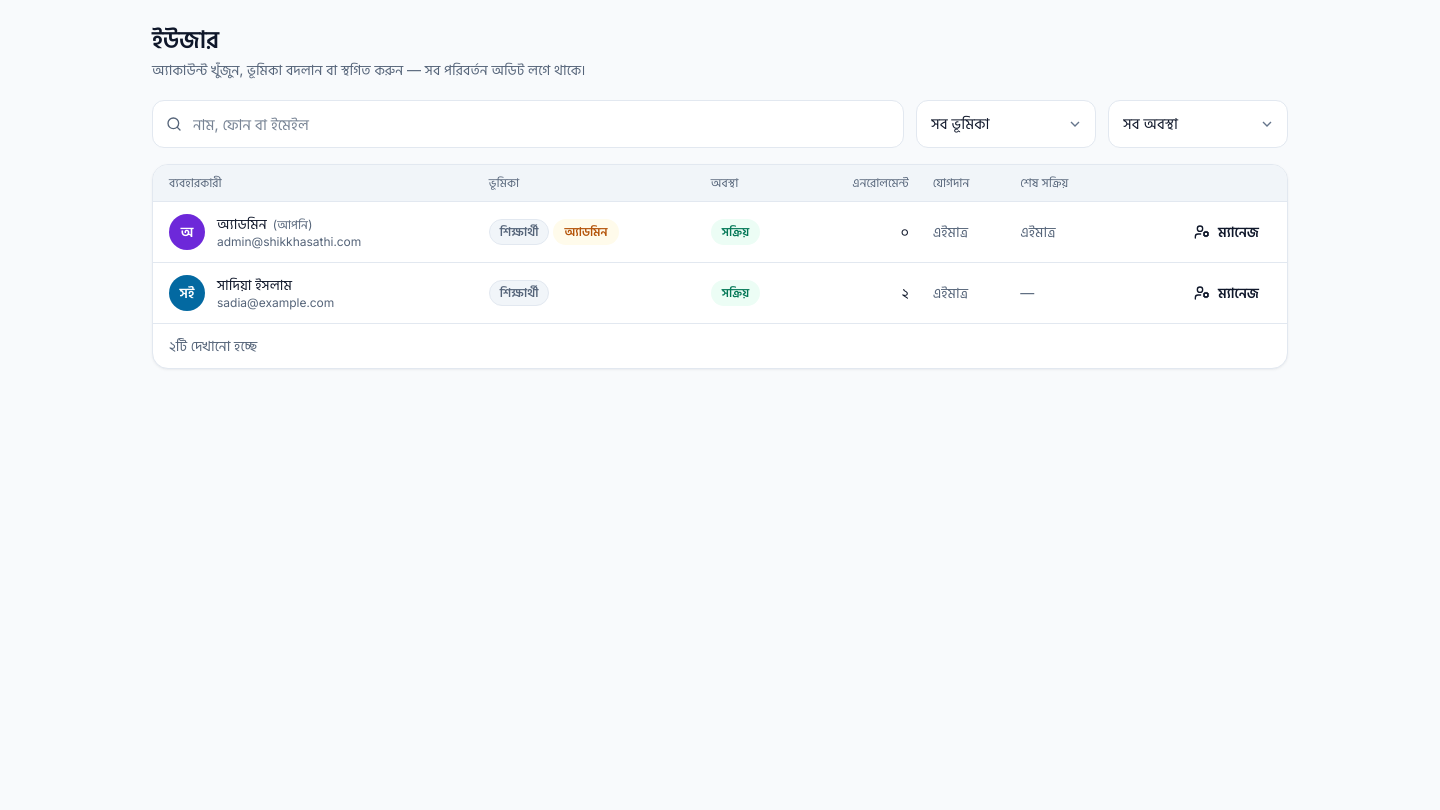
Test: Admin users › blocks self-demotion/suspension and toggles roles for others
This screenshot has width=1440, height=810.
Later steps or results of the test are not shown.
Click the button named "অ্যাডমিন ম্যানেজ করুন" at (1226, 232), box [1182,214,1271,250]
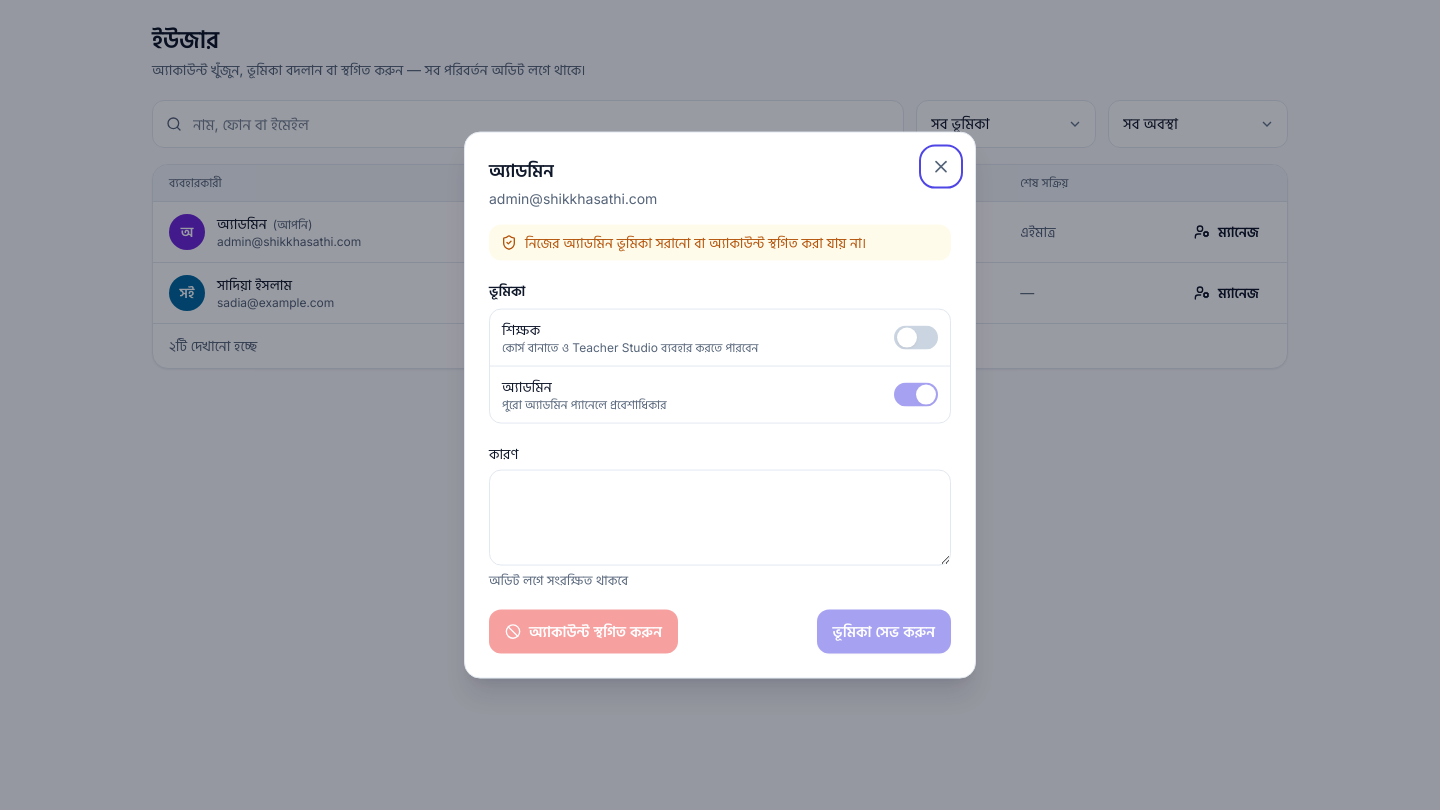
expect the switch named "অ্যাডমিন" is disabled: met, box [894,383,938,407]
expect the button "অ্যাকাউন্ট স্থগিত করুন" is disabled: met, box [489,609,678,653]
